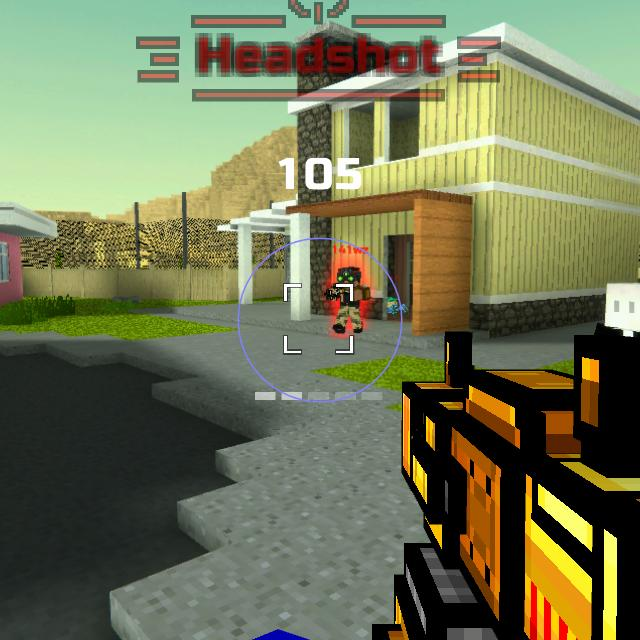Enemy: (326, 265, 373, 334)
